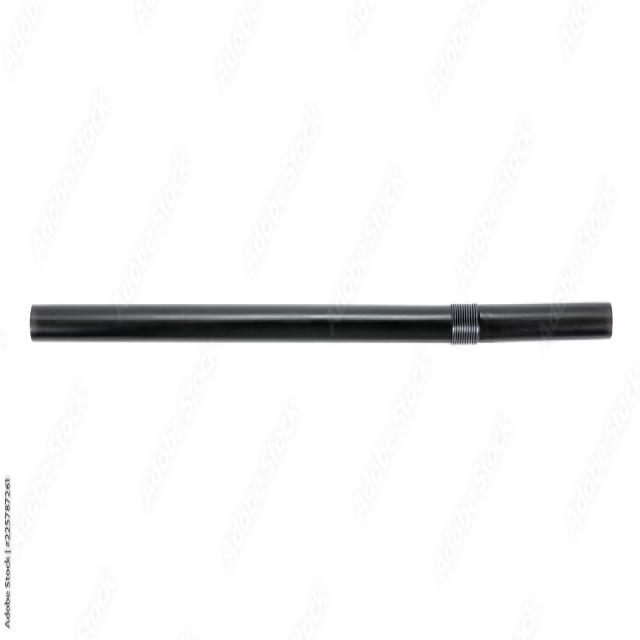plastic: (29, 253, 628, 410)
